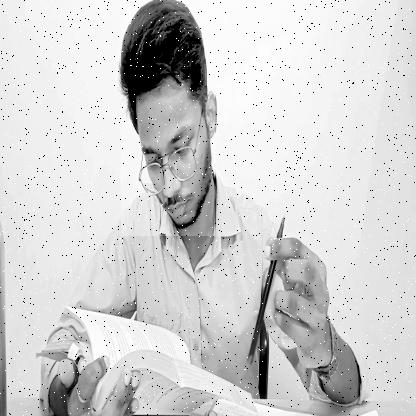Distracted: (122, 0, 216, 236)
